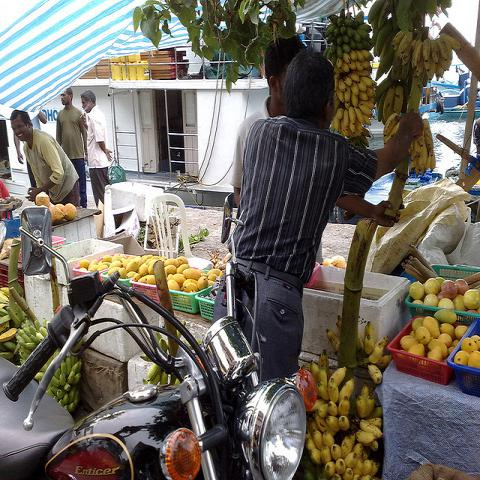motorcycle: (1, 191, 316, 473)
